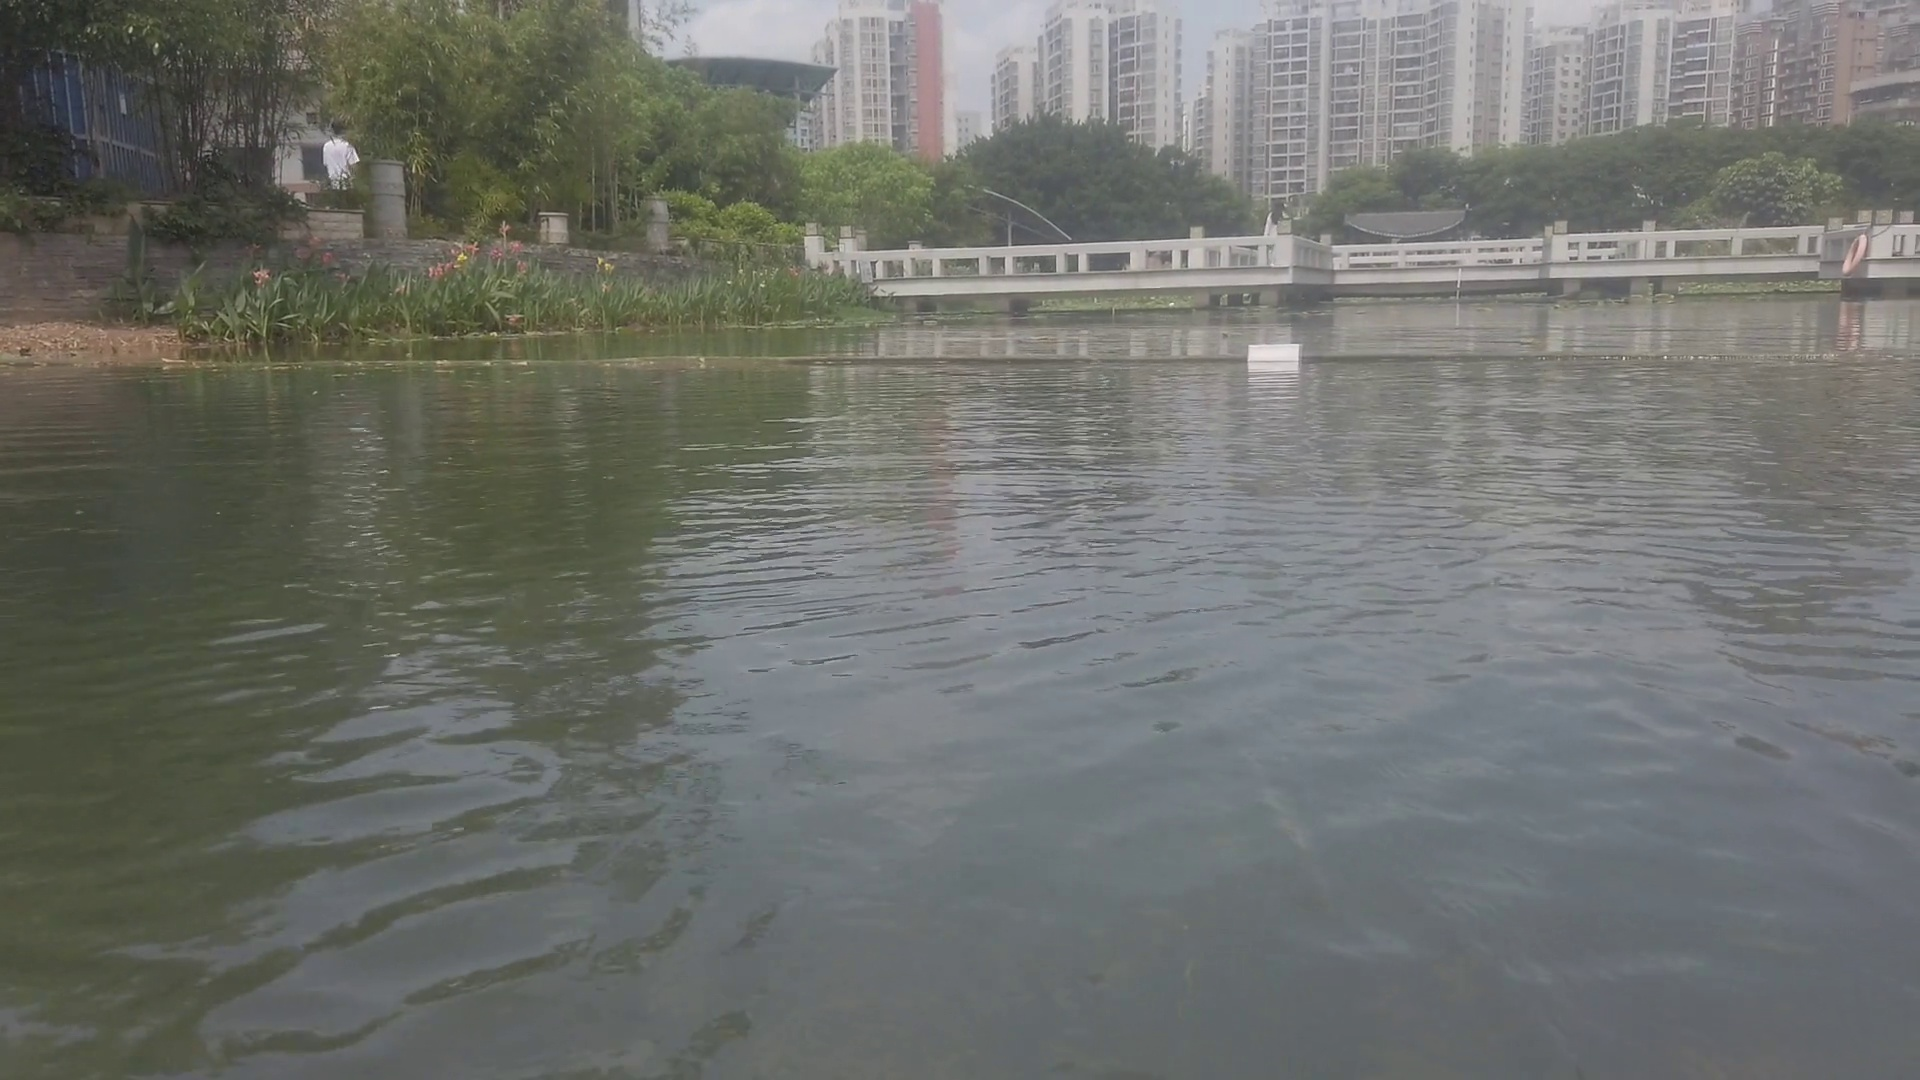carton: (1245, 335, 1308, 367)
